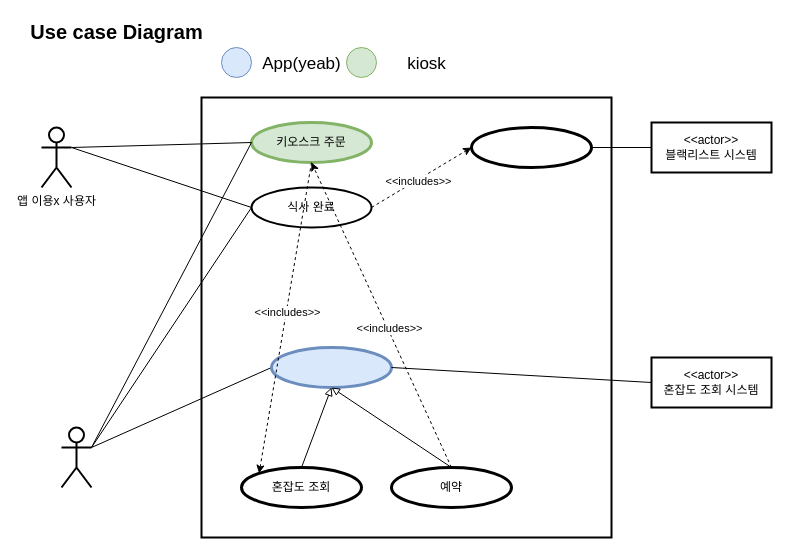
Some shapes in this 790 by 555 pixel diagram are drawn without their labels. Each missing label, with the centre of its shape:
"App 이용" goes at (331,367).
"앱 이용 사용자" goes at (76,457).
"키오스크 마감" goes at (531,147).
